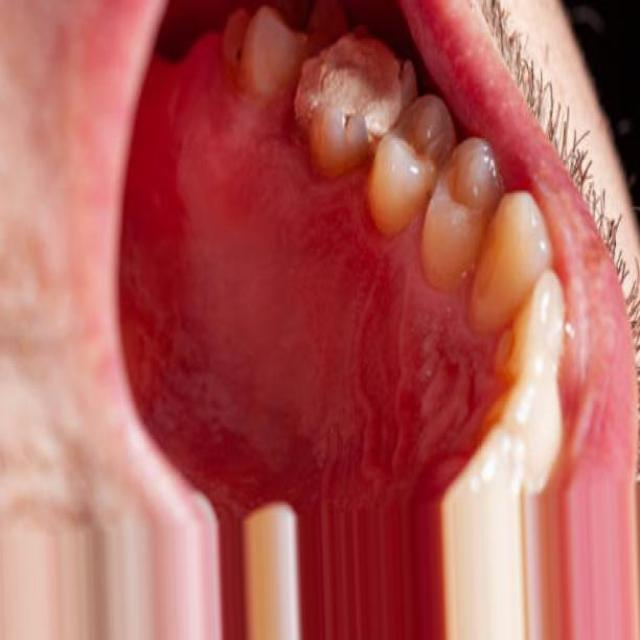caries: (297, 33, 400, 145)
